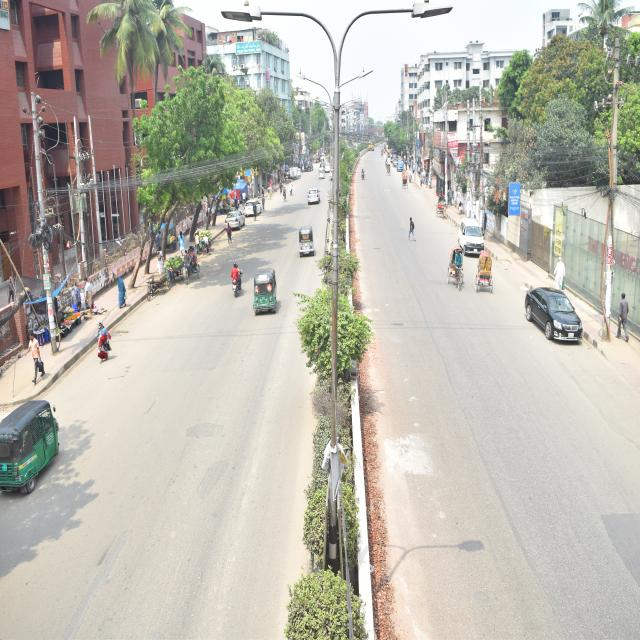car: (508, 270, 596, 369), (445, 210, 489, 267), (233, 182, 265, 228), (224, 194, 244, 240), (302, 179, 321, 219), (320, 155, 334, 177)
motorbike: (353, 158, 384, 203)
